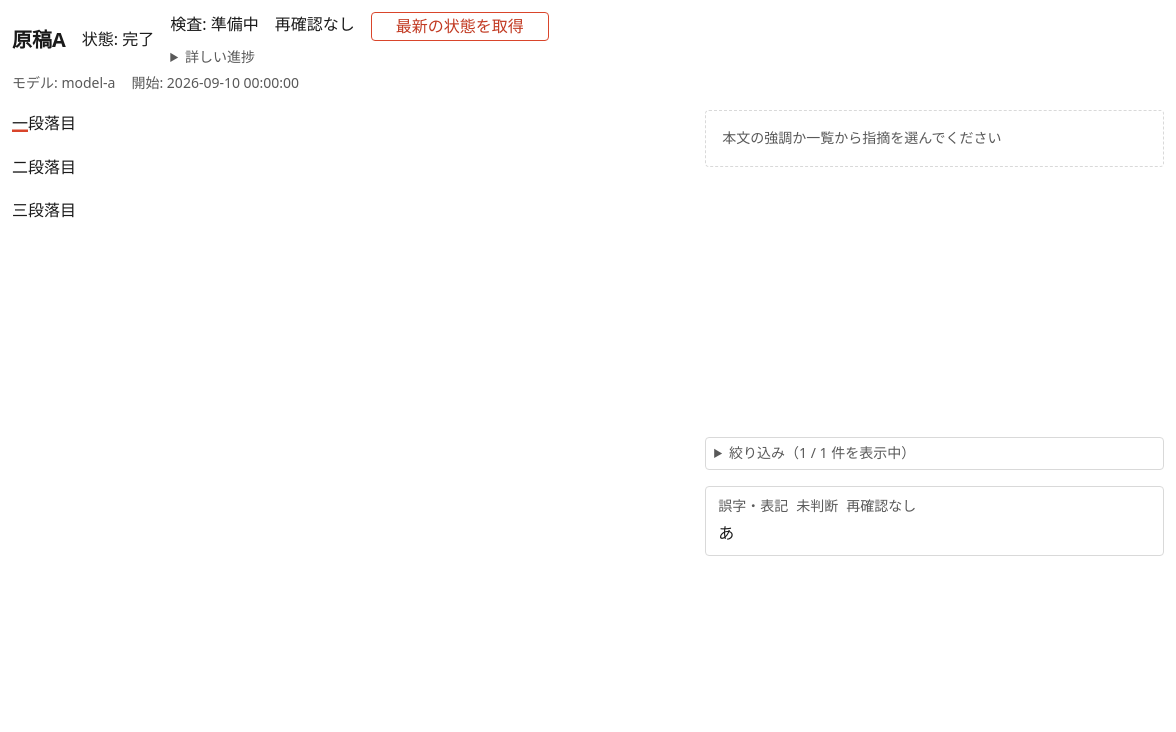
Test case: ResultsPage: 最終レビュー Important 1 更新の失敗 › 読み込み済みの状態で更新に失敗しても本文と一覧が残り、エラーが出る
This screenshot has width=1176, height=732.
Expected: the text "1 / 1 件" is shown, 799,443 -> 845,462
Click the button "最新の状態を取得" at coordinates (460, 27), box 371,12 -> 549,41
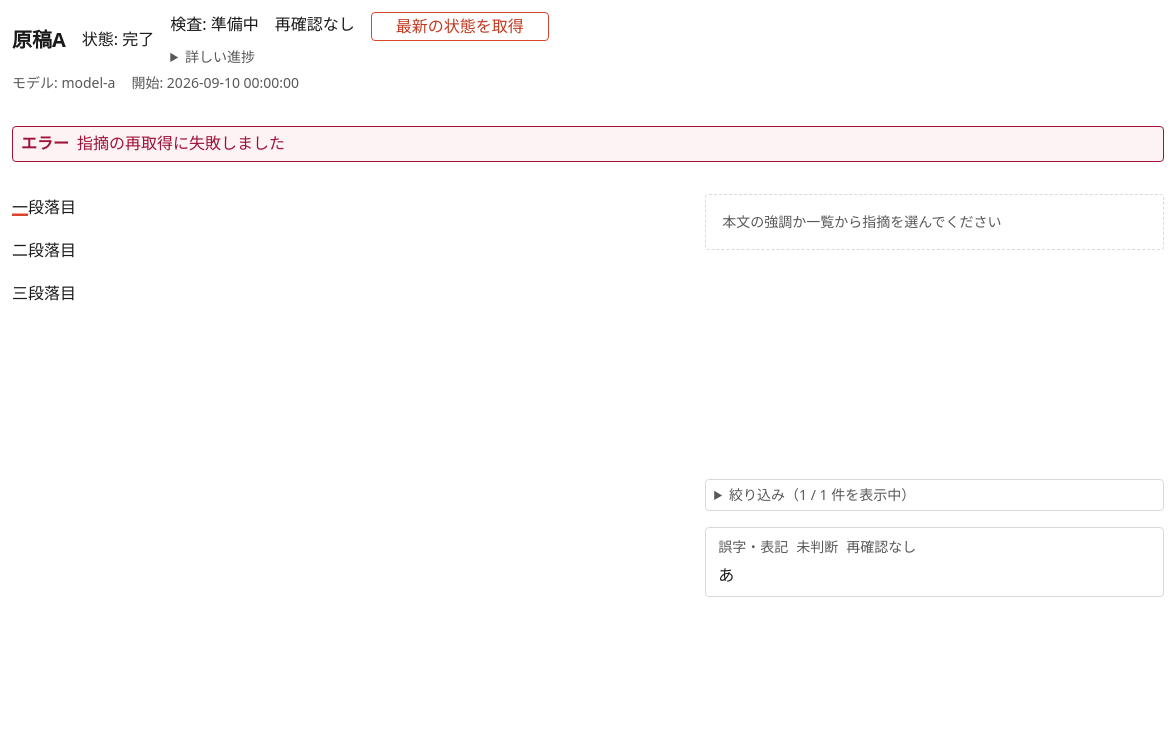
Expected: the text "1 / 1 件" is shown, 799,485 -> 845,504
Now the text "指摘の再取得に失敗しました" is shown, box 12,126 -> 1164,162
